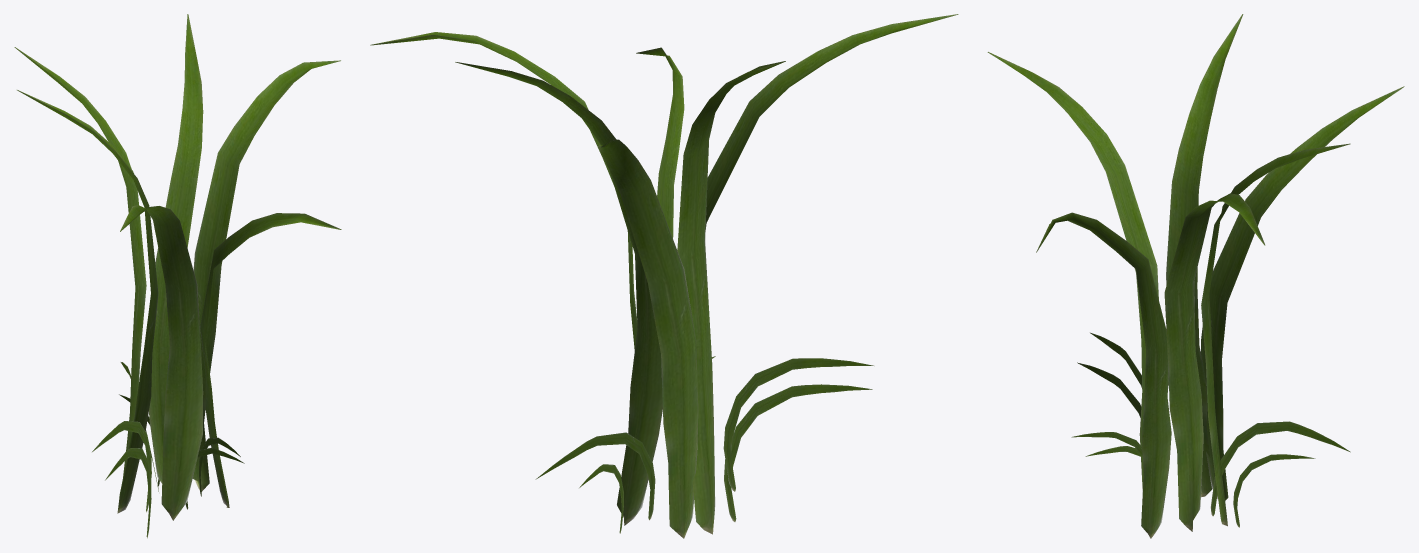
Rendered from grass tuft2.glb.
3 renders of one model, left to right at view 1: azimuth 30°, elevation 25°; view 2: azimuth 150°, elevation 25°; view 3: azimuth 270°, elevation 25°, orthographic. The views are drawn at different scales.
Visible parts, largest first — view 1: Plane.003, Plane.005, Plane.004, Plane.001, Plane.002, Plane.006, Plane.011, Plane.012; view 2: Plane.002, Plane.001, Plane.004, Plane.003, Plane.006, Plane.005, Plane.011, Plane.012, Plane.009; view 3: Plane.005, Plane.006, Plane.002, Plane.001, Plane.003, Plane.004, Plane.009, Plane.010, Plane.012.
Boxes of the visible parts, x1,y1,x2,y2 form: Plane.003: (120,205,203,520); Plane.005: (192,60,340,491); Plane.004: (149,14,203,483); Plane.001: (17,90,158,513); Plane.002: (14,47,146,476); Plane.006: (200,213,341,507); Plane.011: (92,421,151,512); Plane.012: (105,448,151,538); Plane.002: (598,139,698,538); Plane.001: (677,61,785,534); Plane.004: (455,62,662,525); Plane.003: (705,14,958,229); Plane.006: (636,47,684,237); Plane.005: (370,32,637,350); Plane.011: (723,358,873,491); Plane.012: (724,384,872,521); Plane.009: (535,432,655,520); Plane.005: (1164,193,1265,531); Plane.006: (1036,212,1171,538); Plane.002: (1200,86,1404,500); Plane.001: (1166,14,1243,497); Plane.003: (987,52,1158,491); Plane.004: (1201,143,1350,526); Plane.009: (1210,421,1350,516); Plane.010: (1233,454,1315,527); Plane.012: (1077,362,1141,417).
Size of the model in its own units: 3.43 by 4.04 by 3.38.
Materials: 1 (1 with a texture image).
